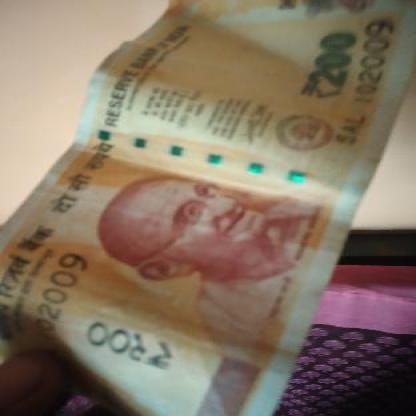New200Front: (6, 1, 392, 415)
